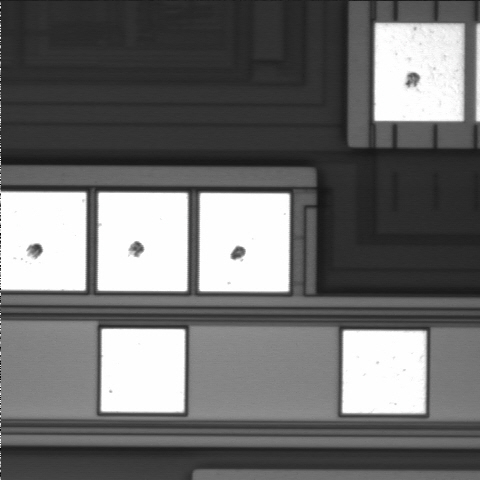pad: (199, 193, 290, 292), (98, 193, 188, 291), (375, 23, 463, 121), (101, 329, 185, 412), (342, 331, 426, 413)
